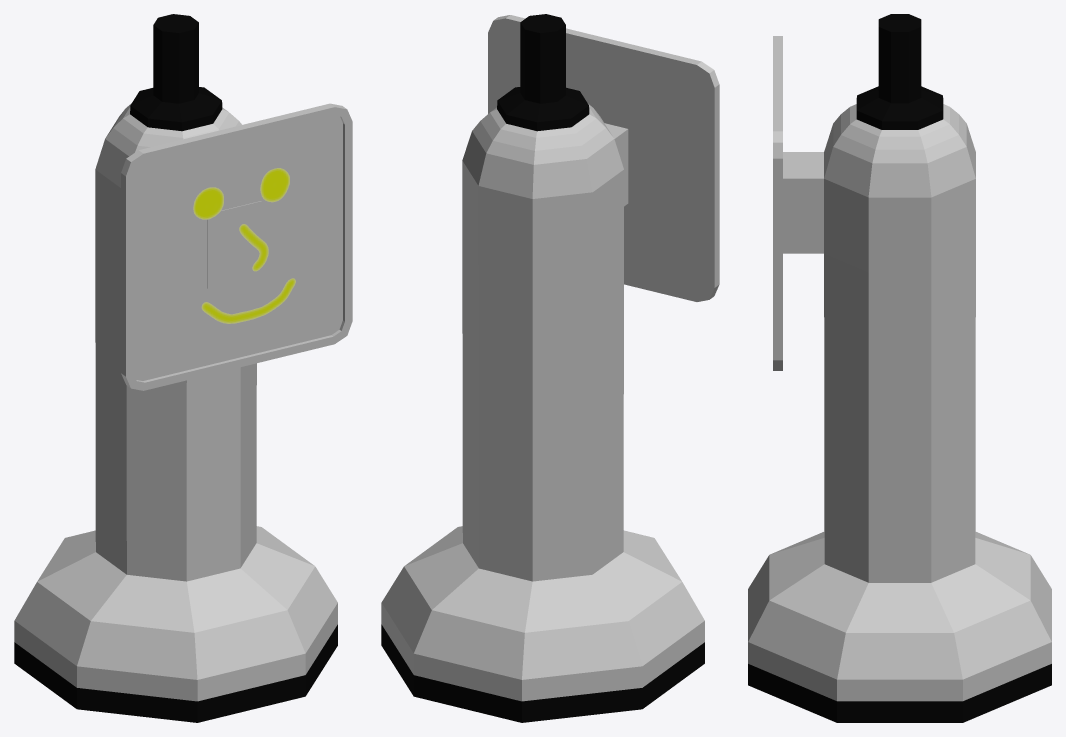
File: helper.fbx
3 renders of one model, left to right at view 1: azimuth 30°, elevation 25°; view 2: azimuth 150°, elevation 25°; view 3: azimuth 270°, elevation 25°, orthographic.
Parts seen in each view (by area): view 1: Helper, Face; view 2: Helper; view 3: Helper.
Part boxes in pixels (x1,y1,x2,y2): Helper: (14,14,352,722); Face: (193,168,295,323); Helper: (381,14,719,722); Helper: (748,14,1051,722).
Size of the model in its own units: 185 by 427 by 185.
